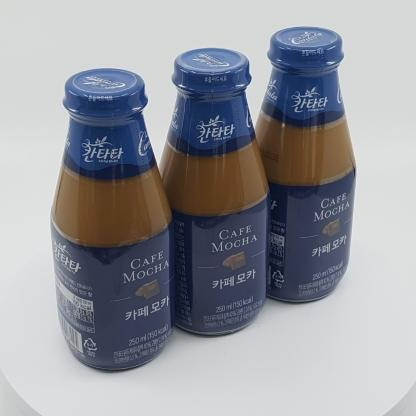------------250ML: (50, 68, 175, 369), (150, 47, 270, 335), (247, 26, 357, 302)
